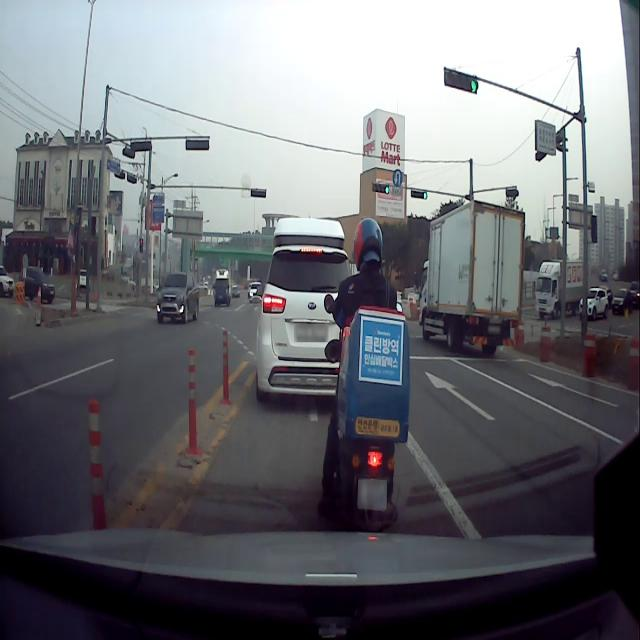Green Light: (470, 76, 478, 94), (384, 183, 390, 196), (422, 190, 428, 199)
